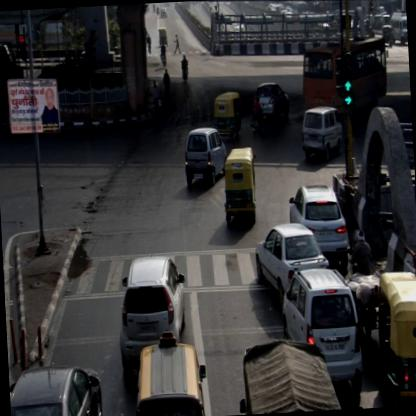bus: (300, 35, 388, 114), (390, 10, 408, 48)
car: (280, 266, 364, 398), (116, 254, 190, 372), (128, 330, 210, 415), (254, 221, 332, 306), (287, 182, 348, 274), (8, 363, 105, 415), (184, 126, 229, 186), (301, 106, 343, 162), (253, 80, 289, 118)
motorcycle: (250, 96, 265, 137), (180, 52, 190, 84), (160, 42, 168, 67)
truck: (238, 335, 350, 413)
